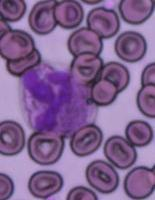E: (17, 61, 96, 139)
